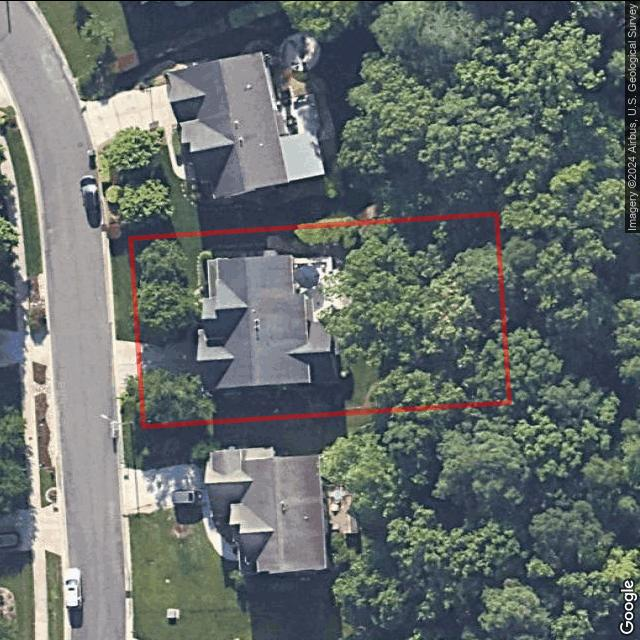Driveway: (138, 339, 201, 390)
Extra-Driveway: (116, 339, 140, 395)
Extra-Lawn: (110, 239, 137, 341), (121, 388, 144, 429)
House: (197, 249, 338, 391)
Lawn: (130, 213, 509, 426)
Other: (268, 230, 356, 320), (194, 240, 268, 307)
